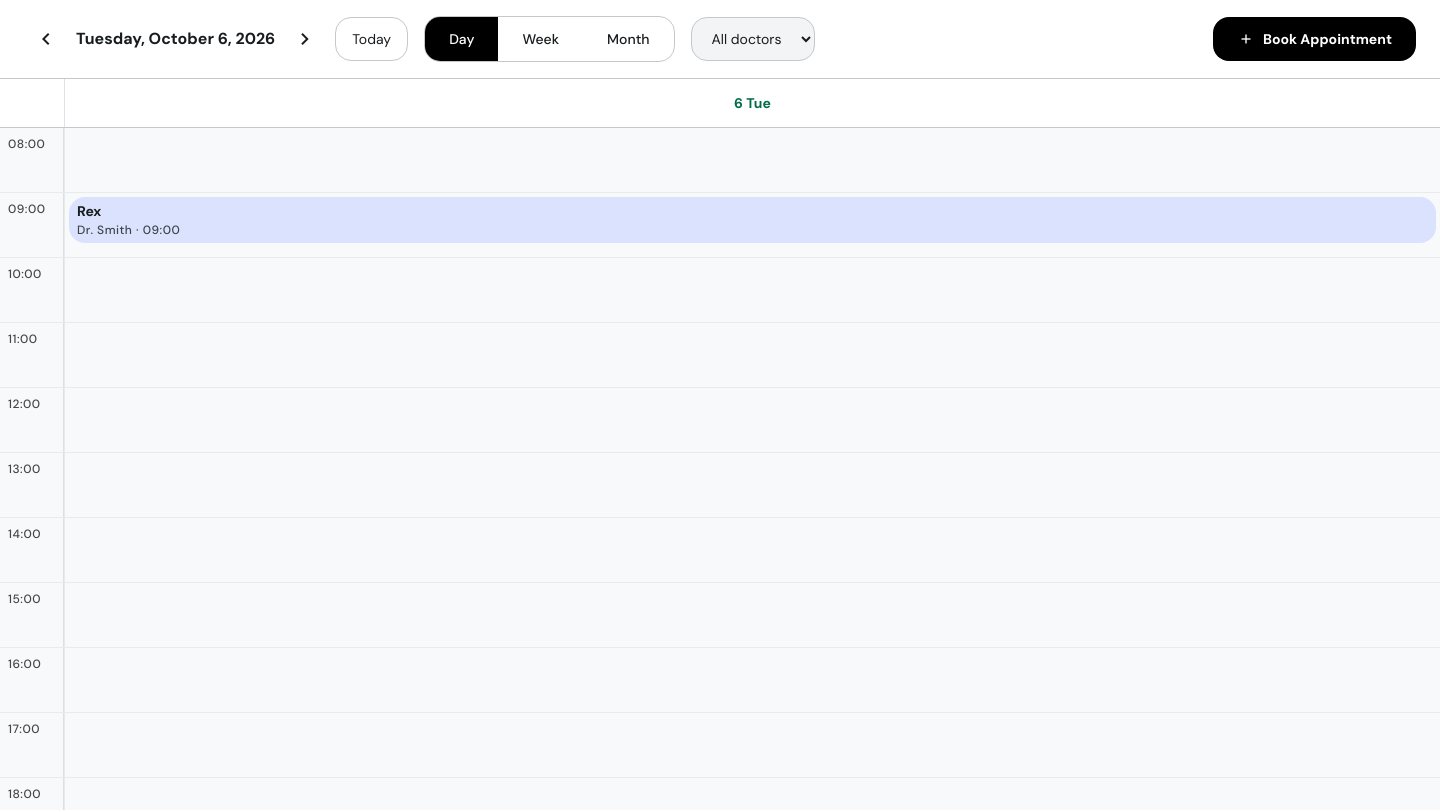
ClinicAppointments — AppointmentDetail with appointments.edit (clinic_staff / clinic_admin) › renders the status-change footer and every status option
The image size is (1440, 810).
Click the text "Rex" at (89, 211), box [77, 202, 101, 220]
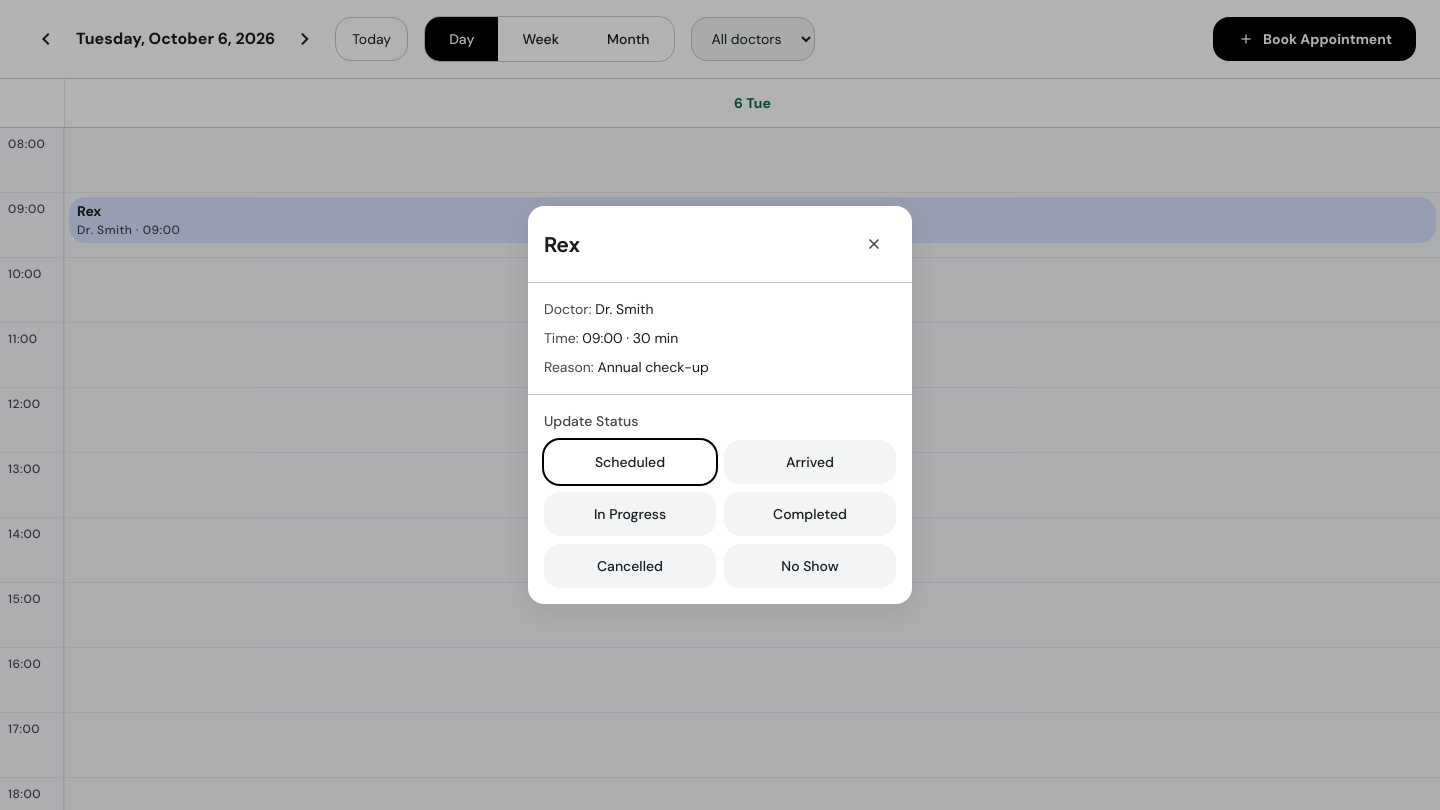
Result: the text "Update Status" is shown at [544, 412, 638, 430]
Result: the button "scheduled" is shown at [544, 440, 716, 484]
Result: the button "arrived" is shown at [724, 440, 896, 484]
